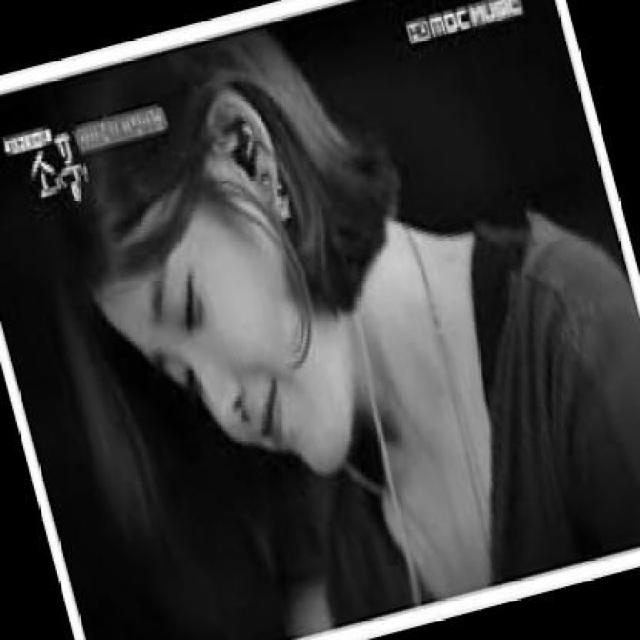earphone: (226, 115, 282, 176)
